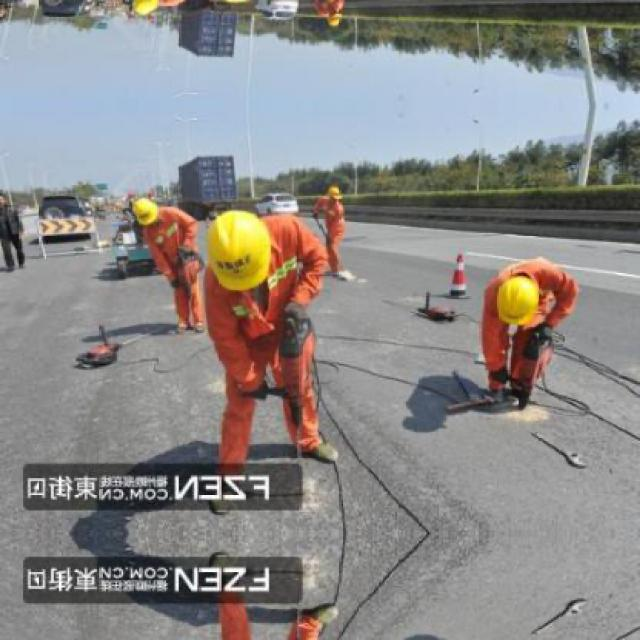helmet: (200, 207, 275, 296), (490, 272, 544, 332), (129, 197, 160, 230), (128, 0, 160, 17), (323, 182, 345, 202), (323, 12, 345, 32)
